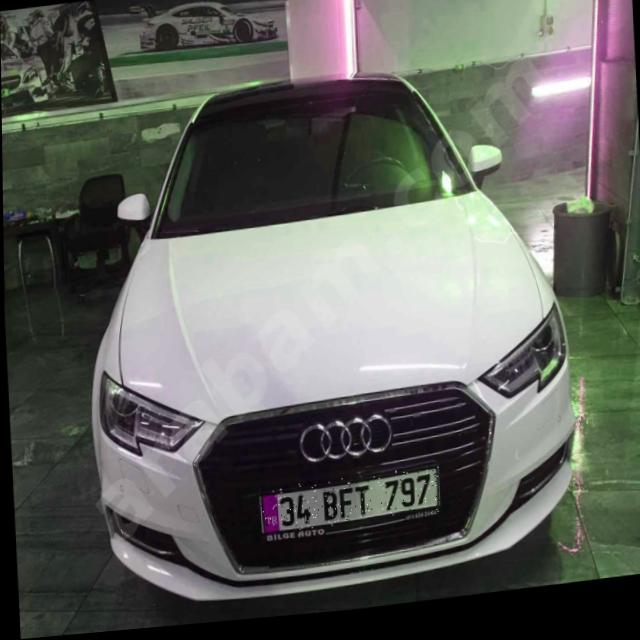license_plate: (258, 473, 438, 539)
